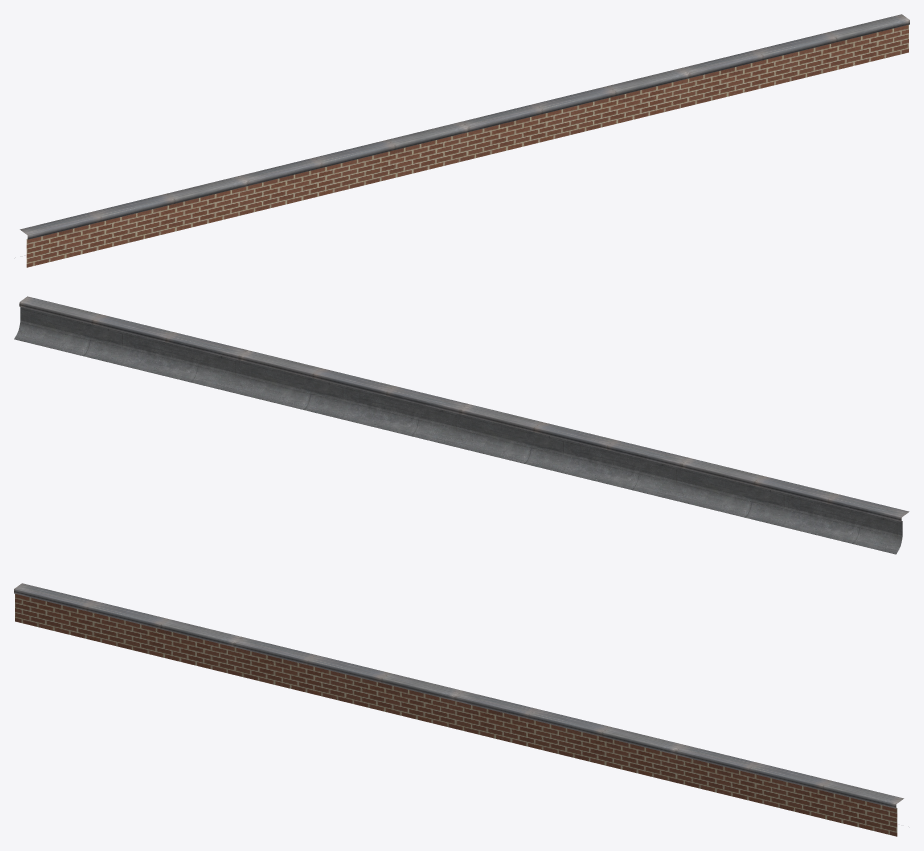
The model's file is SM_Roof_Edge_Flashing_01.glb.
The picture shows the model from 3 angles, top to bottom: view 1: azimuth 30°, elevation 25°; view 2: azimuth 150°, elevation 25°; view 3: azimuth 330°, elevation 25°; orthographic projection.
Visible parts, largest first — view 1: SM_Roof_Edge_Flashing_01; view 2: SM_Roof_Edge_Flashing_01; view 3: SM_Roof_Edge_Flashing_01.
Part boxes in pixels (left/top/right/bottom): SM_Roof_Edge_Flashing_01: left=20, top=14, right=909, bottom=267; SM_Roof_Edge_Flashing_01: left=14, top=296, right=909, bottom=554; SM_Roof_Edge_Flashing_01: left=14, top=583, right=903, bottom=836.
Size of the model in its own units: 16 by 0.5741 by 0.4308.
3 materials, 3 textured.
